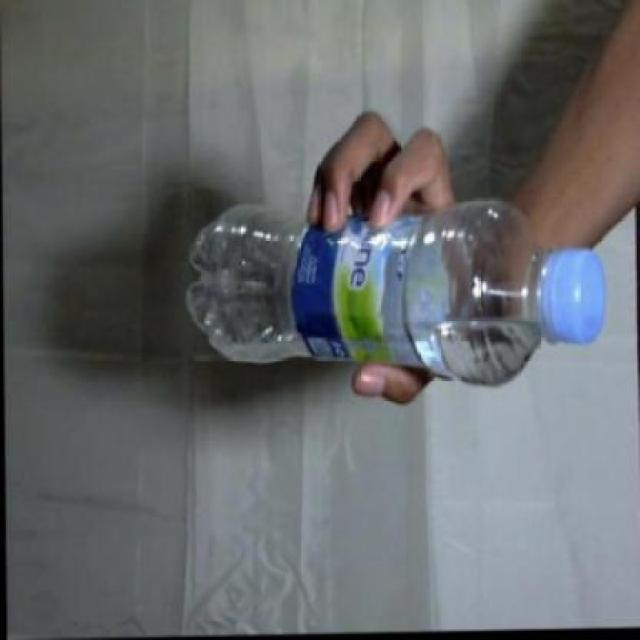Plastic: (184, 201, 607, 387)
